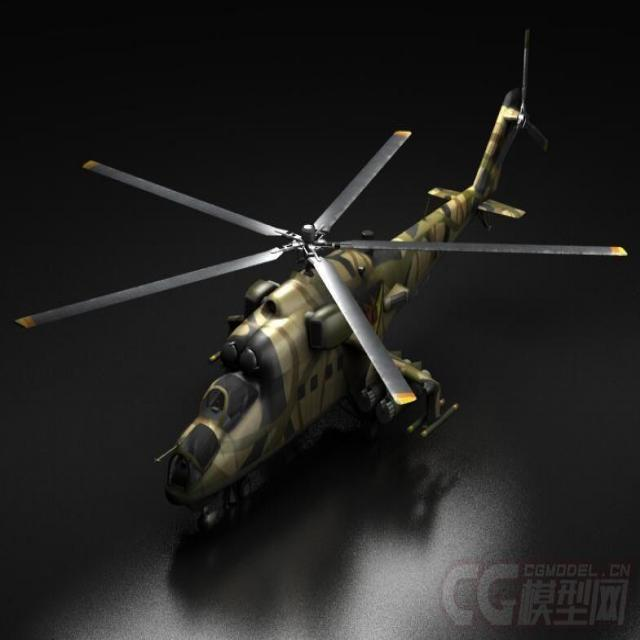MIL_HELO: (32, 26, 640, 545)
